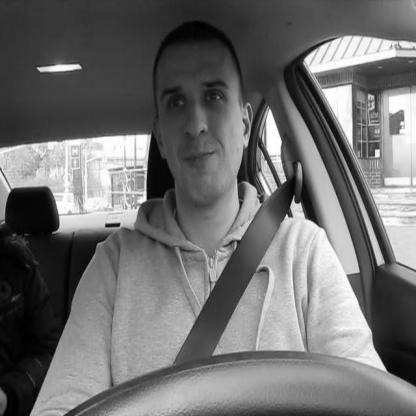seatbelt: (131, 19, 306, 397)
